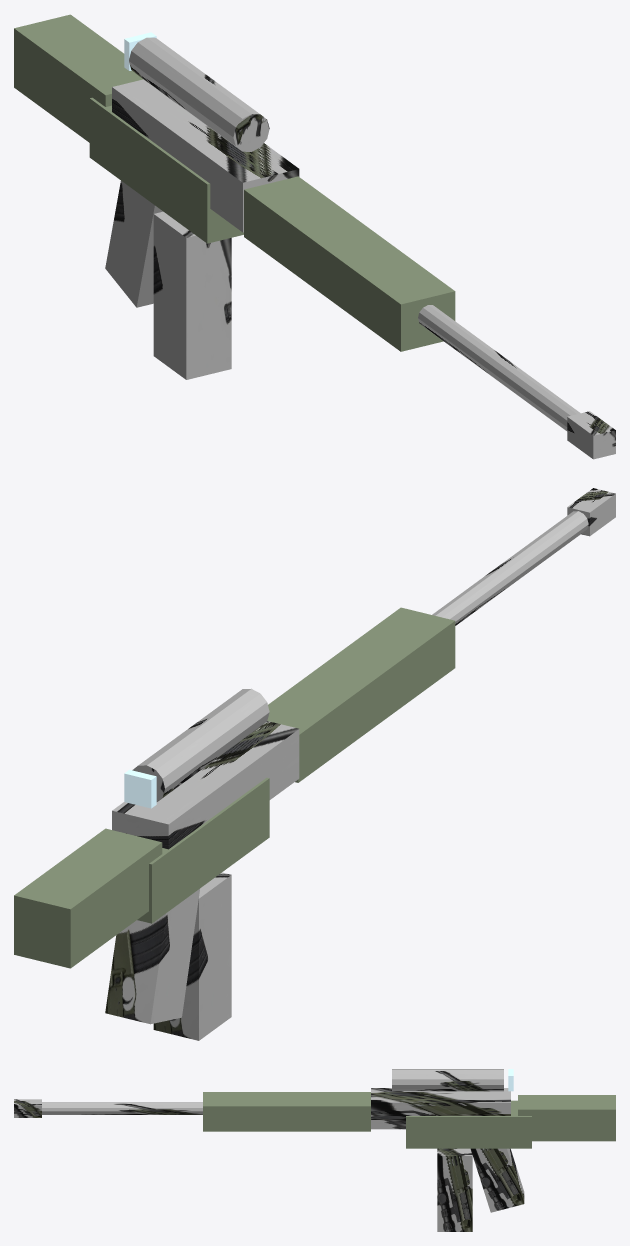
The model's file is dmr.glb.
3 views of the same model, one above another, from view 1: azimuth 30°, elevation 25°; view 2: azimuth 150°, elevation 25°; view 3: azimuth 270°, elevation 25° (orthographic). The views are drawn at different scales.
Visible parts, largest first — view 1: WeaponMesh, Mag.001; view 2: WeaponMesh, Mag.001; view 3: WeaponMesh, Mag.001.
Part boxes in pixels (x1,y1,x2,y2): WeaponMesh: [14, 14, 615, 459]; Mag.001: [153, 211, 231, 379]; WeaponMesh: [14, 488, 615, 1024]; Mag.001: [153, 872, 231, 1040]; WeaponMesh: [14, 1069, 615, 1212]; Mag.001: [437, 1148, 472, 1231].
Size of the model in its own units: 0.055 by 0.246 by 0.86.
6 materials, 3 textured.
